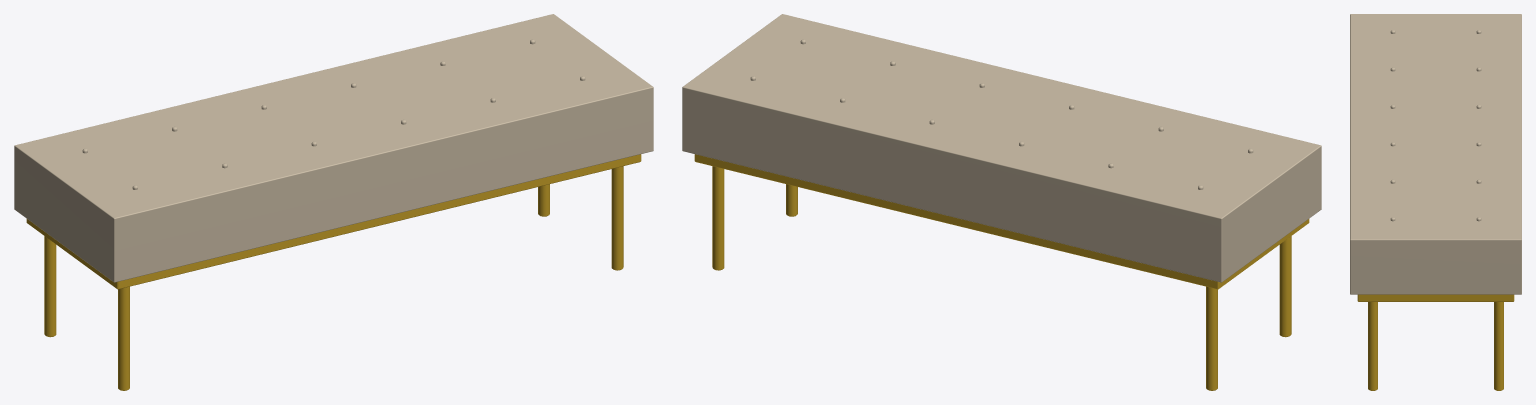
Rendered from prop_bench_upholstered.glb.
3 views of the same model, side by side, from view 1: azimuth 30°, elevation 25°; view 2: azimuth 150°, elevation 25°; view 3: azimuth 270°, elevation 25° (orthographic). The views are drawn at different scales.
Visible parts, largest first — view 1: Bench; view 2: Bench; view 3: Bench.
Boxes of the visible parts, <box> form: Bench: <box>14,14,653,390</box>; Bench: <box>682,14,1321,390</box>; Bench: <box>1350,14,1521,390</box>.
Size of what is drawn, in the model's own units: 1.4 by 0.468 by 0.45.
